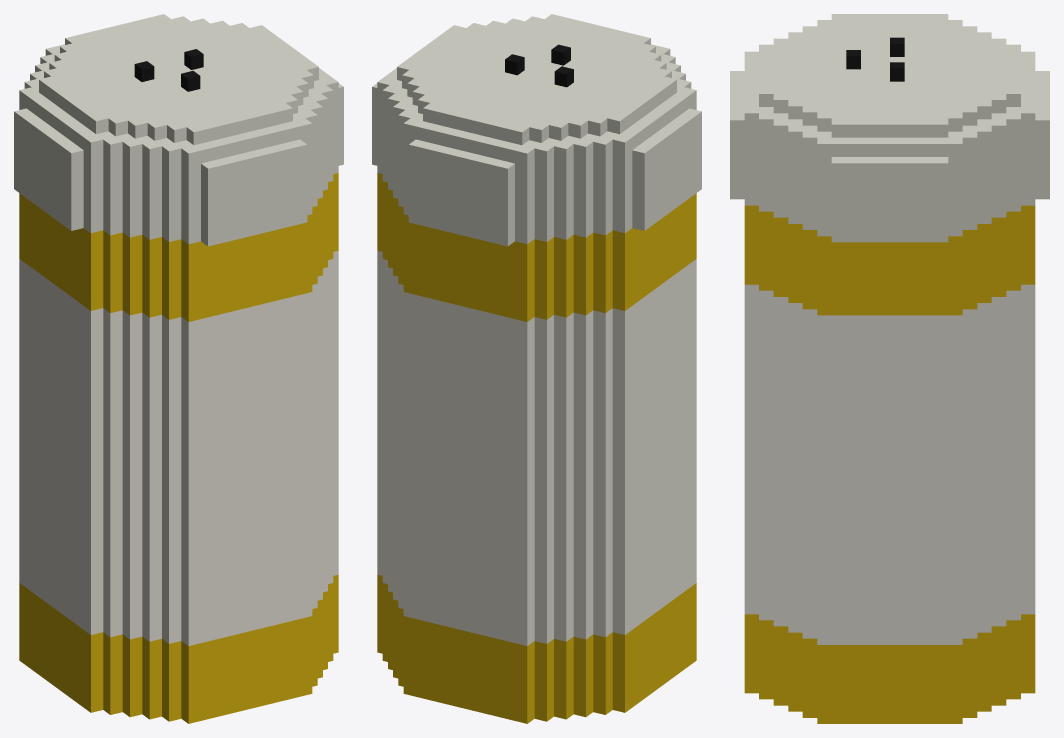
File: antiseptic_powder.glb
The picture shows the model from 3 angles, left to right: view 1: azimuth 30°, elevation 25°; view 2: azimuth 150°, elevation 25°; view 3: azimuth 270°, elevation 25°; orthographic projection.
Parts seen in each view (by area): view 1: antiseptic_powder:compound; view 2: antiseptic_powder:compound; view 3: antiseptic_powder:compound.
Boxes of the visible parts, left/top/right/bottom form: antiseptic_powder:compound: left=14, top=14, right=343, bottom=723; antiseptic_powder:compound: left=372, top=14, right=701, bottom=723; antiseptic_powder:compound: left=730, top=14, right=1049, bottom=723.
Bounding box in the file's own units: 0.044 × 0.092 × 0.044.
